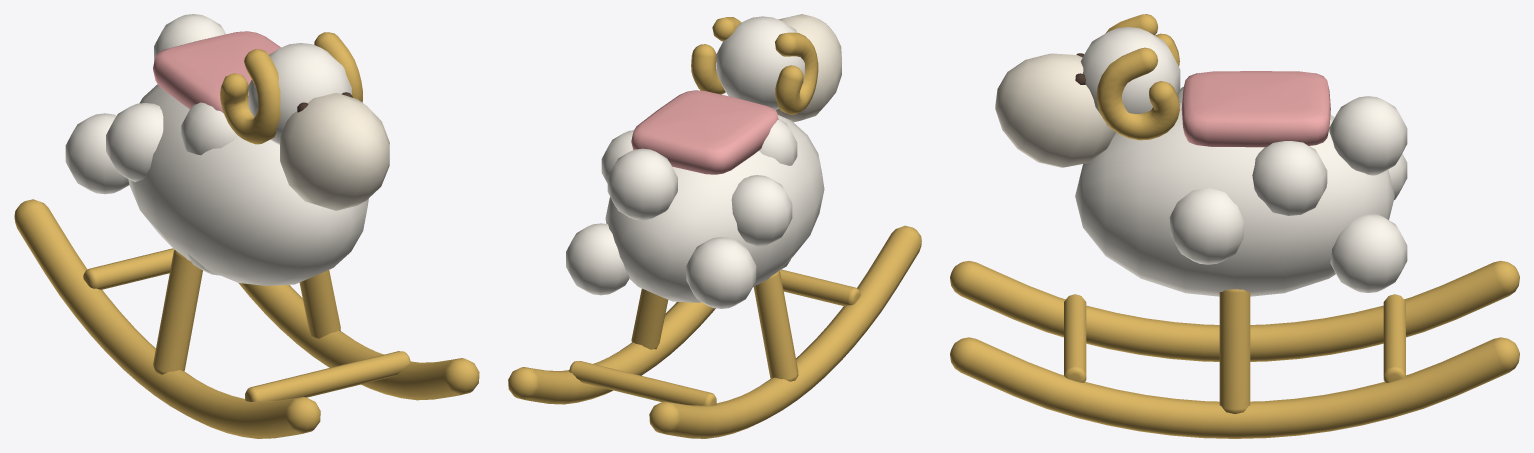
Rendered from ram_rocker.glb.
3 views of the same model, side by side, from view 1: azimuth 30°, elevation 25°; view 2: azimuth 150°, elevation 25°; view 3: azimuth 270°, elevation 25° (orthographic). The views are drawn at different scales.
Parts seen in each view (by area): view 1: ram_rocker_mesh; view 2: ram_rocker_mesh; view 3: ram_rocker_mesh.
Boxes of the visible parts, box(x1,y1,x2,y2) form: ram_rocker_mesh: box(14, 14, 479, 438); ram_rocker_mesh: box(508, 14, 921, 438); ram_rocker_mesh: box(950, 14, 1519, 438).
Size of the model in its own units: 0.476 by 0.7593 by 1.07.
